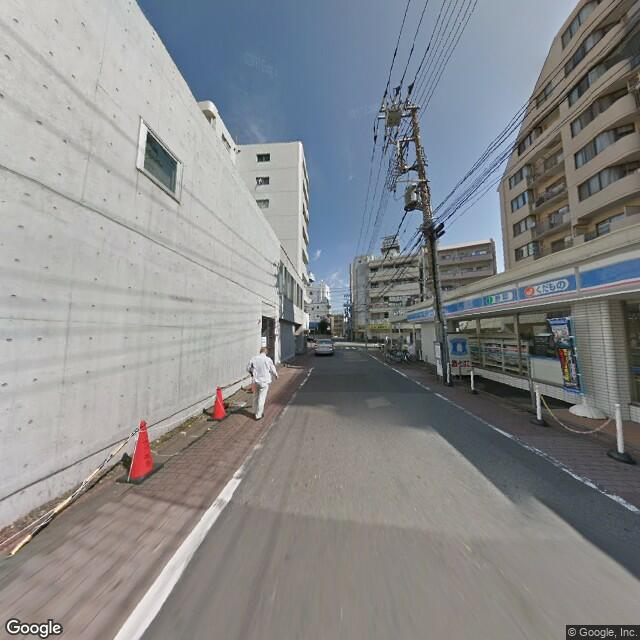lawson: (404, 243, 639, 328), (448, 334, 469, 363)
